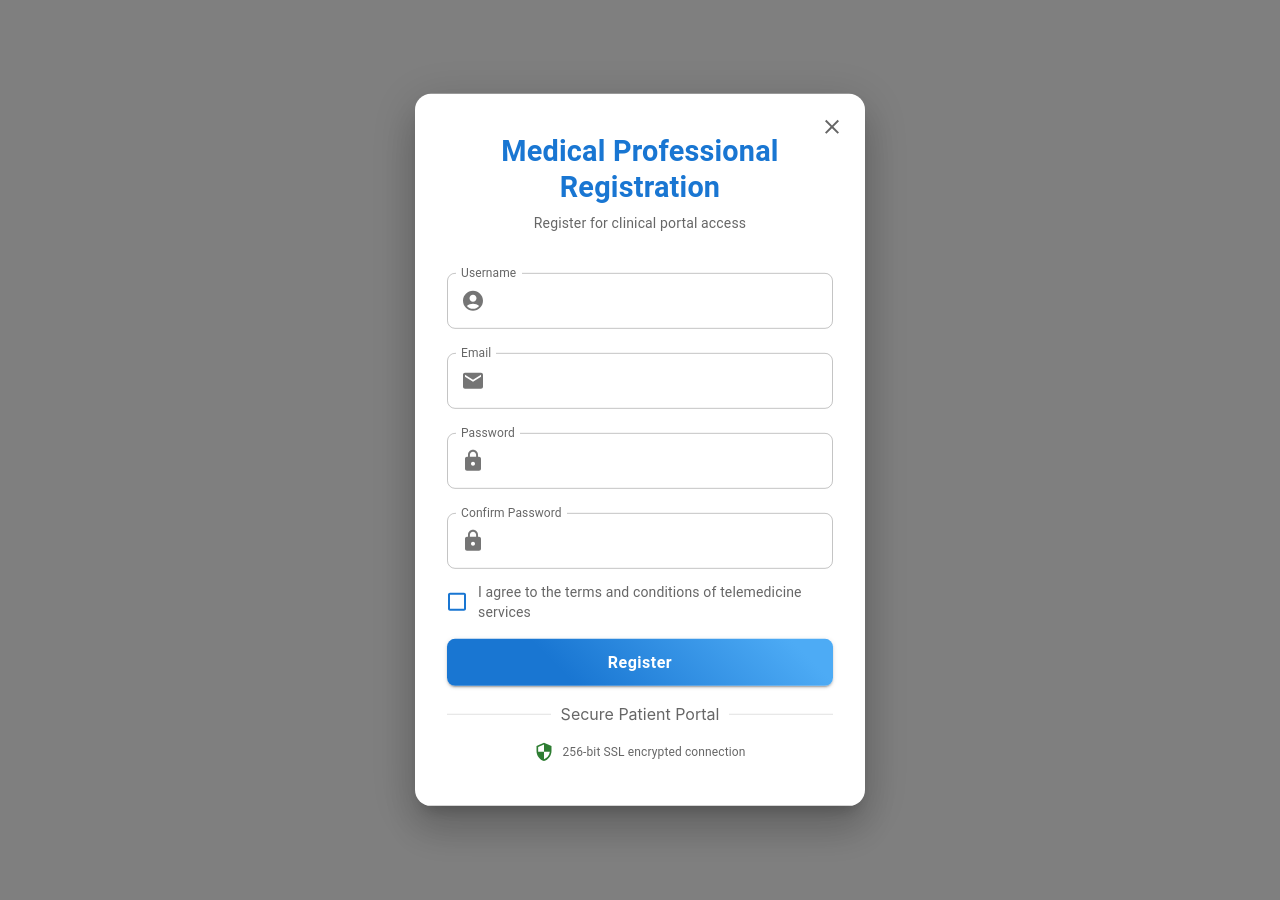
Scenario: DoctorRegisterPage › shows consent checkbox error
This screenshot has width=1280, height=900.
Type "doc" into the field labelled "Username" at x=663, y=301, box [493,273,833,329]
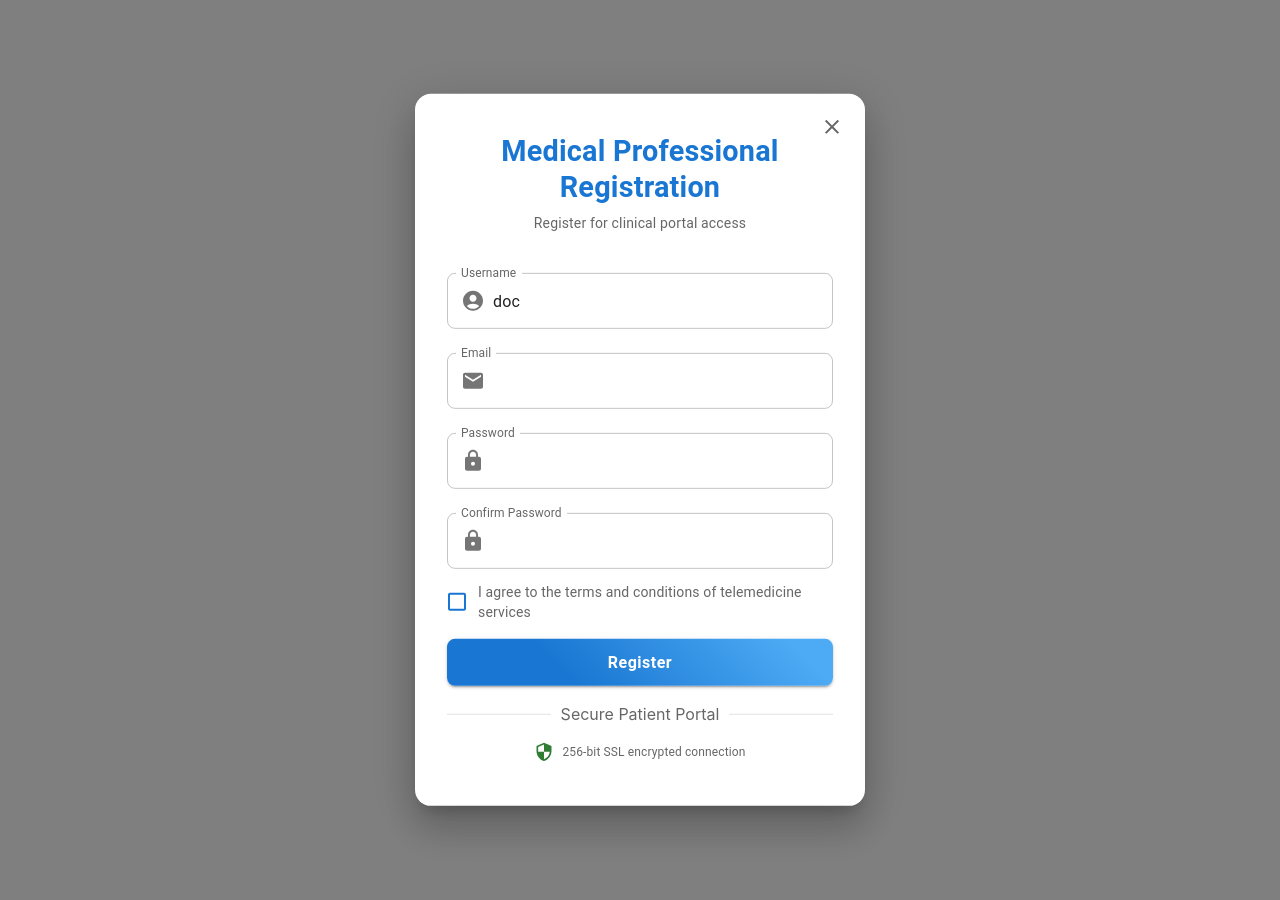
Type "doc@example.com" into the field labelled "Email" at x=663, y=381, box [493,353,833,409]
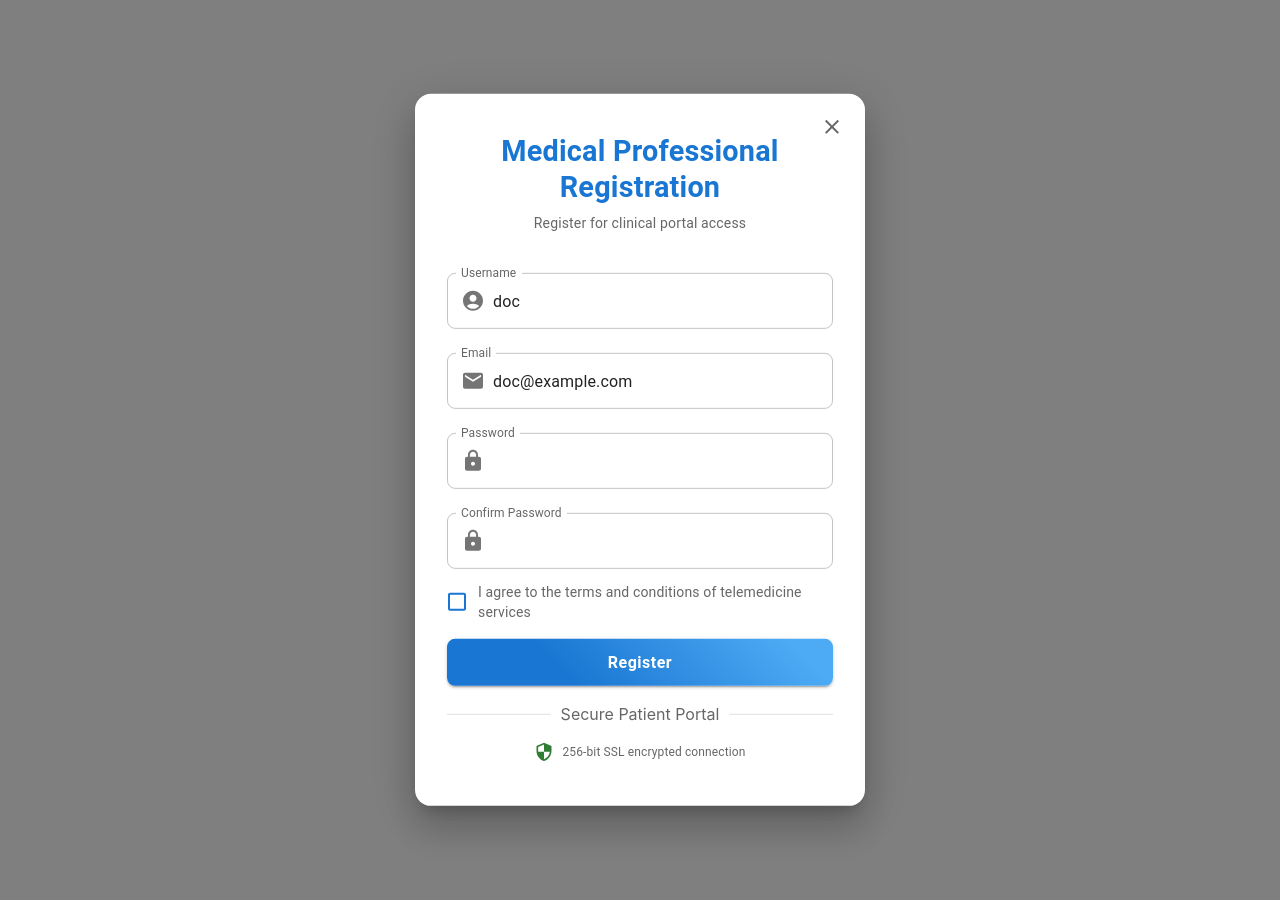
Type "testpass123" into the password field labelled "Password" at x=663, y=461, box [493,433,833,489]
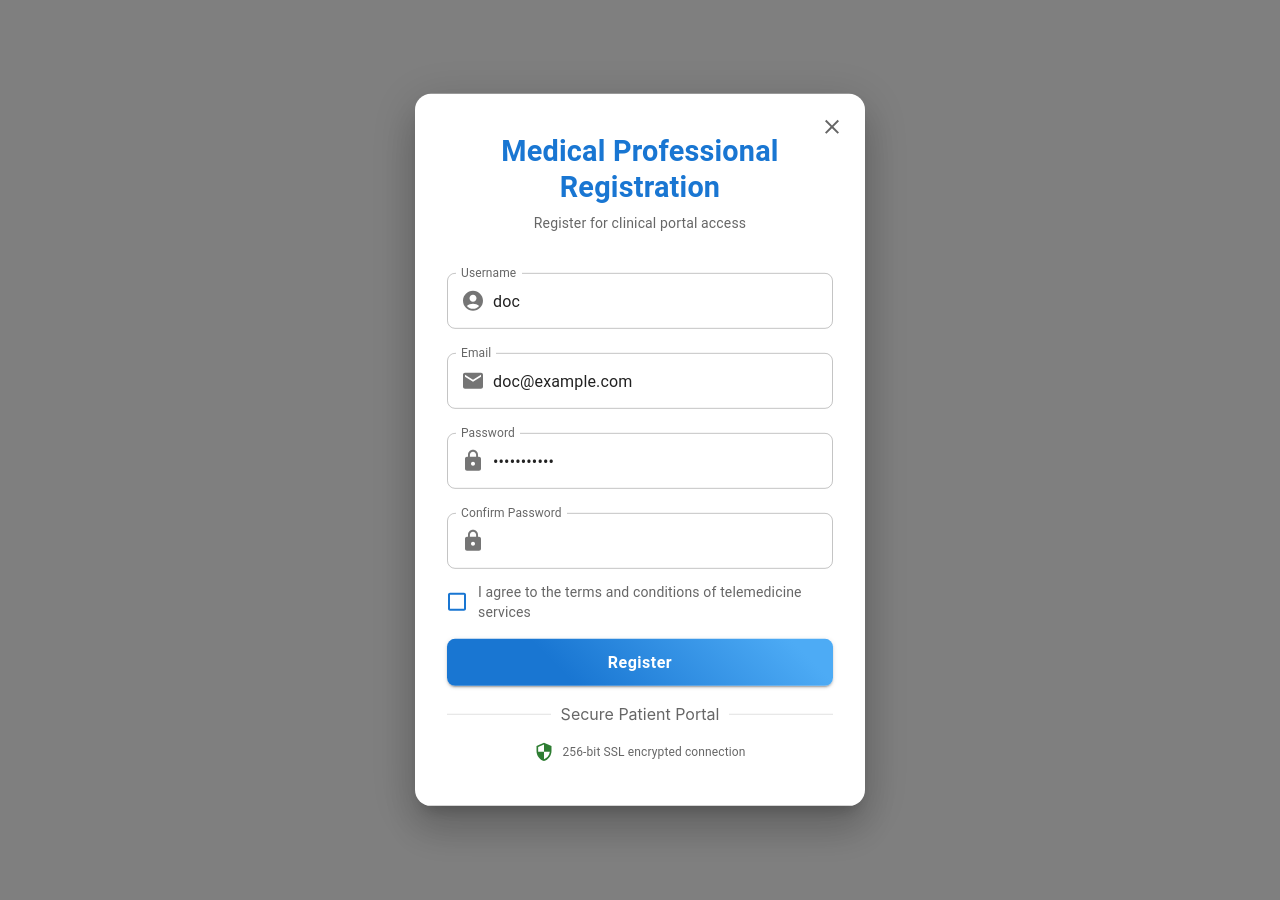
Type "testpass123" into the password field labelled "Confirm Password" at x=663, y=541, box [493,513,833,569]
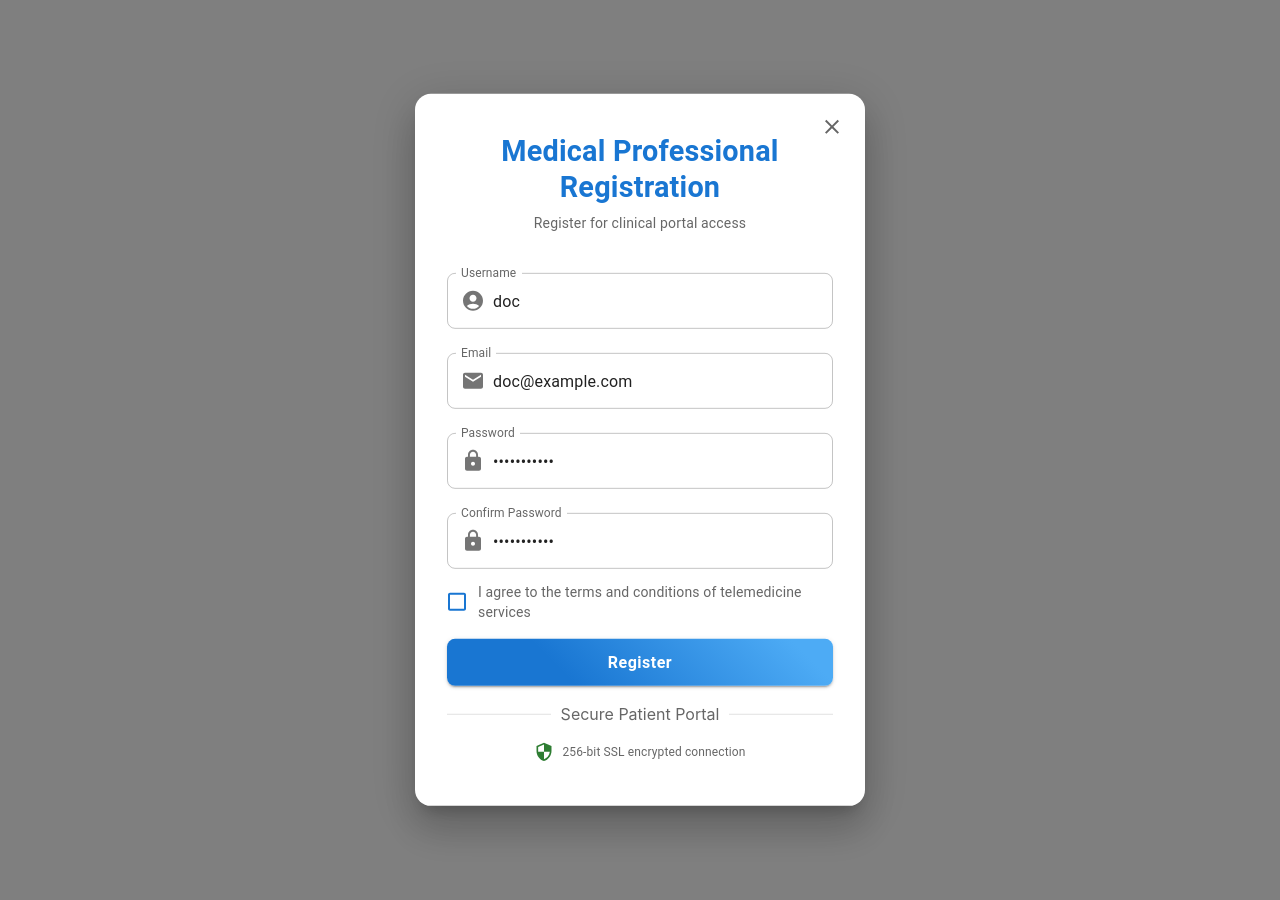
Click the button "Register" at x=640, y=663, box [447,639,833,686]
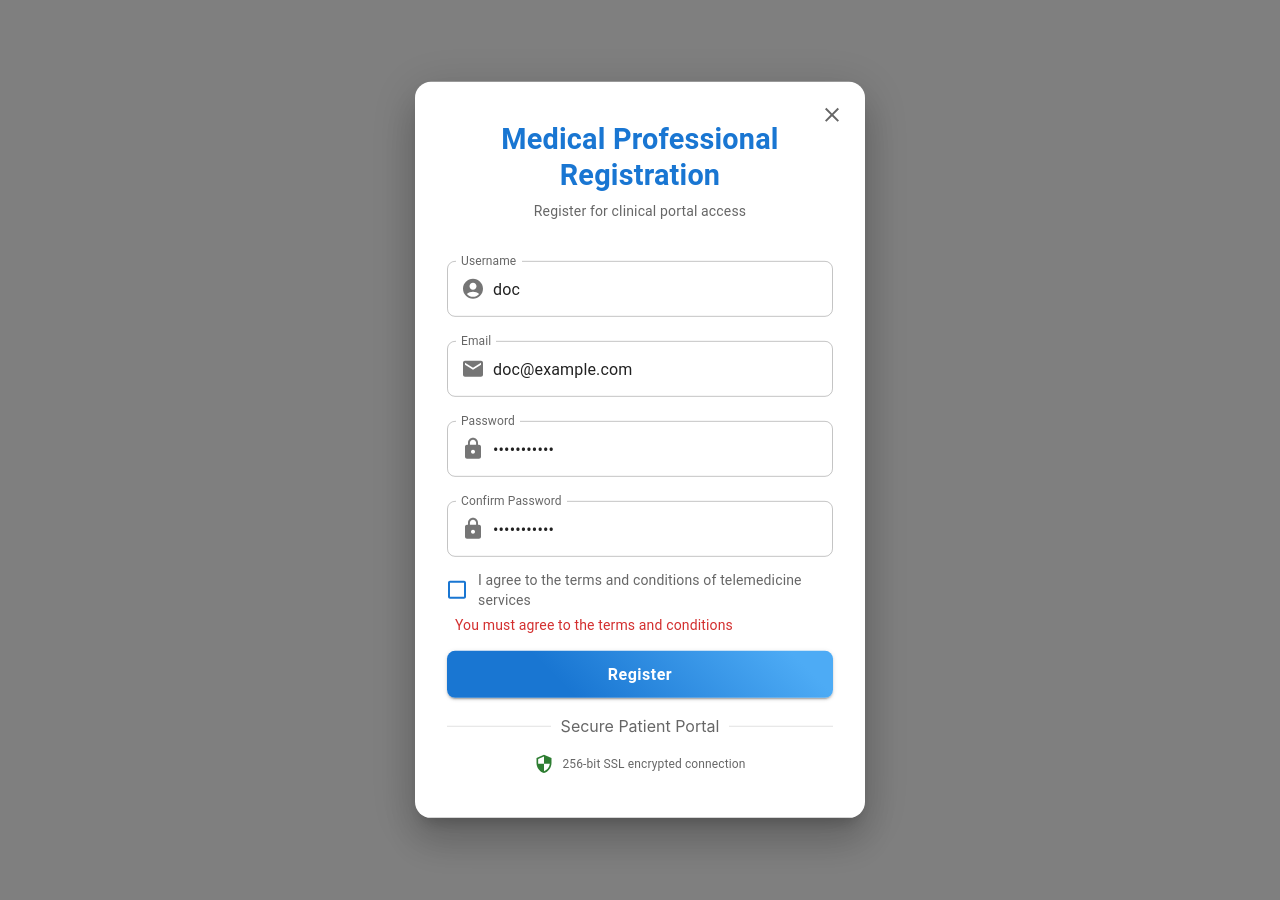
Check: the text "You must agree to the terms and conditions" is shown, box [455,617,733,633]
